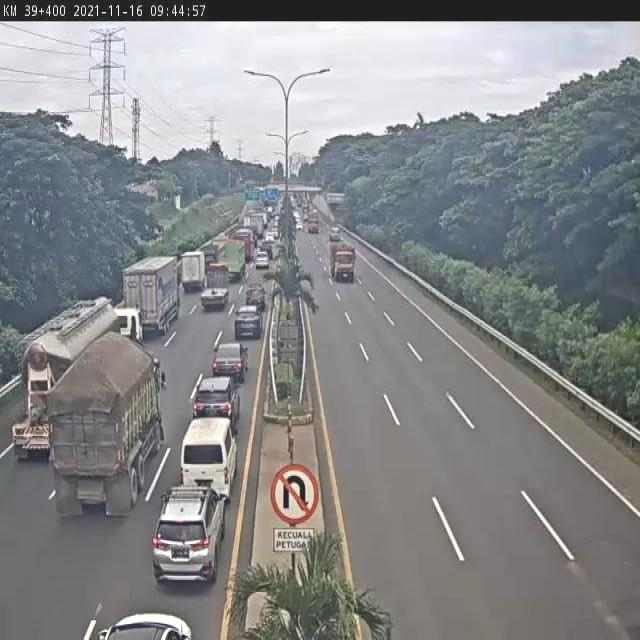Bus: (232, 227, 254, 261)
Car: (150, 484, 229, 588), (193, 376, 241, 428), (211, 341, 250, 382), (234, 306, 263, 339), (244, 284, 267, 311), (259, 240, 274, 260), (255, 251, 269, 269), (264, 231, 276, 246), (270, 226, 278, 238), (296, 222, 302, 231)
Truck: (9, 293, 146, 465), (44, 331, 167, 518), (120, 254, 182, 338), (200, 263, 230, 312), (180, 249, 207, 292), (219, 239, 246, 282), (330, 245, 356, 282), (200, 243, 218, 270), (248, 210, 264, 238), (307, 212, 319, 234), (328, 226, 341, 242), (302, 198, 309, 222)
Van: (179, 416, 238, 501)
